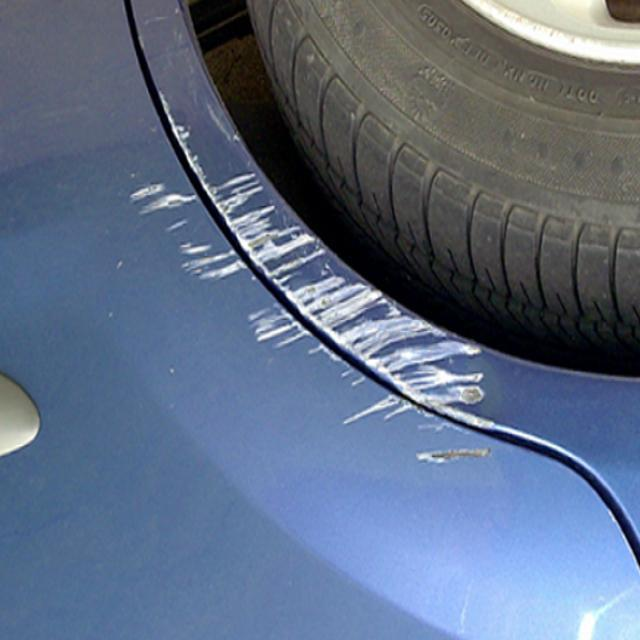scratch: (118, 148, 500, 476)
